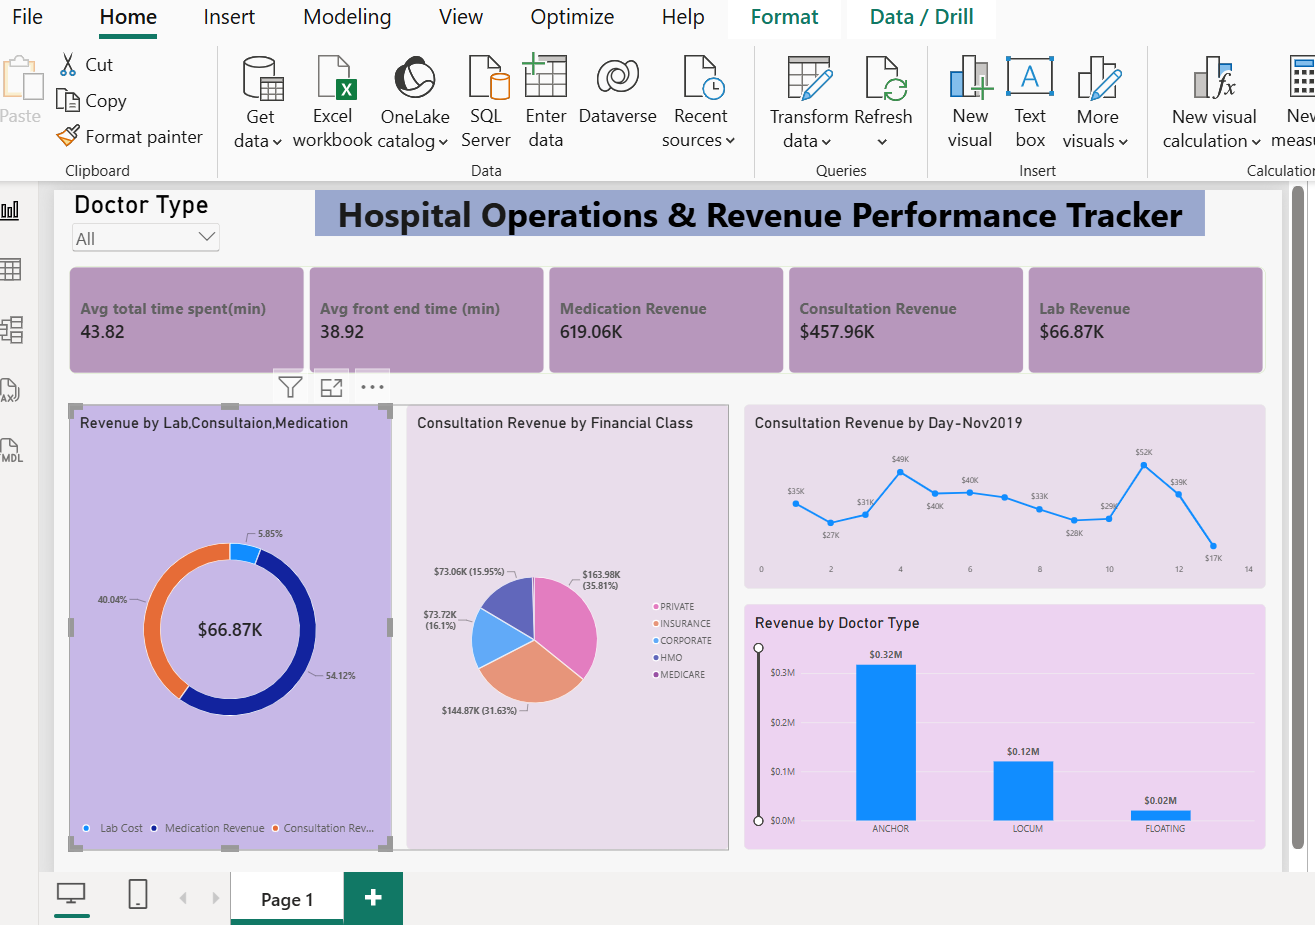

Layout of this report page (visuals, bound fields, positions):
{"tool":"powerbi","page":{"name":"Page 1","canvas":[1920,1080],"ordinal":0},"visuals":[{"type":"columnChart","title":"Revenue by Doctor  Type","fields":{"Category":["Sheet1.Doctor Type"],"Y":["Sum(Sheet1. Consultation Revenue )"]},"box":[1080,648,816,384],"z":0},{"type":"pieChart","title":"Consultation Revenue  by Financial Class","fields":{"Category":["Sheet1.Financial Class"],"Y":["Sum(Sheet1. Consultation Revenue )"]},"box":[552,336,504,696],"z":1000,"group":"g1"},{"type":"textbox","box":[312,120,864,144],"z":2000},{"type":"textbox","box":[408,0,1392,72],"z":3000},{"type":"slicer","fields":{"Values":["Sheet1.Doctor Type"]},"box":[24,0,240,144],"z":4000},{"type":"donutChart","title":"Revenue by Lab,Consultaion,Medication ","fields":{"Y":["Sum(Sheet1.  Lab Cost )","Sum(Sheet1. Medication Revenue )","Sum(Sheet1. Consultation Revenue )"]},"box":[24,336,504,696],"z":5000,"group":"g1"},{"type":"cardVisual","fields":{"Data":["Avg(Sheet1.Total time spentCustom)","Avg(Sheet1.front end time)","Sum(Sheet1. Medication Revenue )","Sum(Sheet1. Consultation Revenue )","Sum(Sheet1.  Lab Cost )"]},"box":[24,120,1872,168],"z":6000},{"type":"lineChart","title":" Consultation Revenue by Day-Nov2019","fields":{"Category":["Sheet1.Date.Variation.Date Hierarchy.Day"],"Y":["Sum(Sheet1. Consultation Revenue )"]},"box":[1080,336,816,288],"z":7000},{"type":"group","id":"g1","title":"Group 1","box":[24,336,1032,696],"z":7001}]}

Visuals, with their boxes in screenshot pixels (x1, y1, x2, y2):
"Revenue by Doctor  Type" columnChart: detection(755, 432, 1287, 683)
"Consultation Revenue  by Financial Class" pieChart: detection(411, 229, 739, 683)
textbox: detection(255, 88, 818, 182)
textbox: detection(317, 10, 1224, 57)
slicer - Sheet1.Doctor Type: detection(67, 10, 223, 104)
"Revenue by Lab,Consultaion,Medication " donutChart: detection(67, 229, 395, 683)
cardVisual - Avg(Sheet1.Total time spentCustom) x Avg(Sheet1.front end time): detection(67, 88, 1287, 198)
" Consultation Revenue by Day-Nov2019" lineChart: detection(755, 229, 1287, 417)
"Group 1" group: detection(67, 229, 739, 683)
